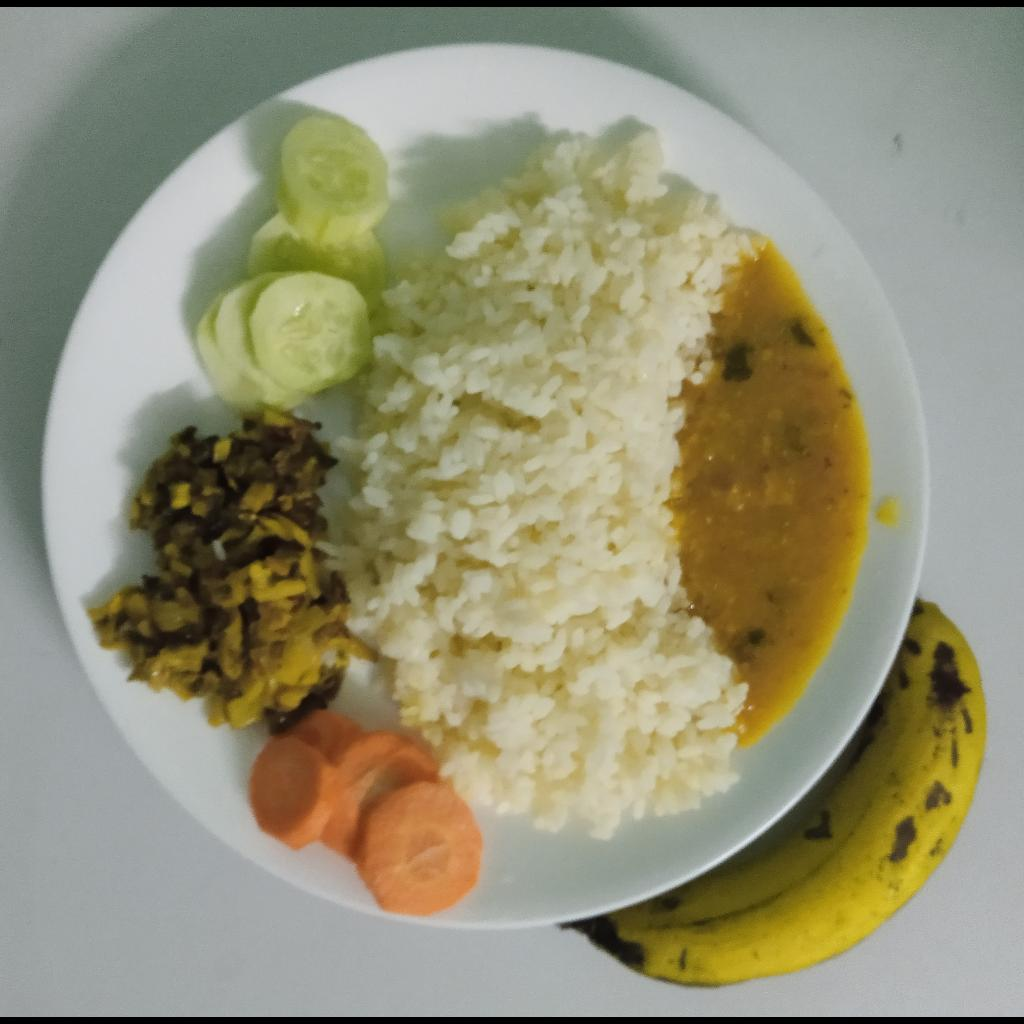banana: (561, 597, 985, 985)
carrot: (247, 712, 483, 917)
cucumber: (193, 116, 392, 411)
daal: (665, 240, 874, 745)
rice: (340, 128, 748, 842)
vegetable: (83, 415, 353, 736)
